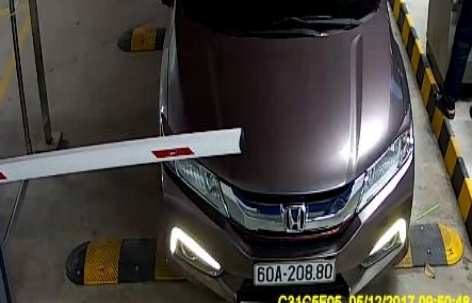plate: (244, 259, 339, 286)
